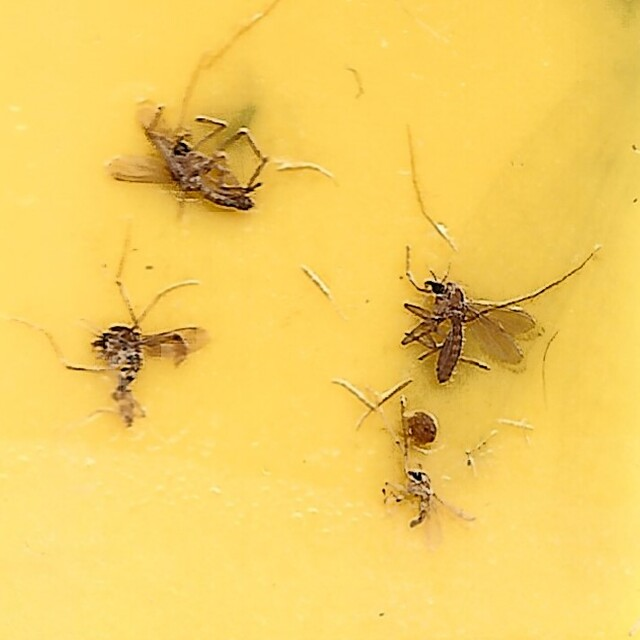Nematocera: (397, 252, 549, 391), (112, 103, 275, 213), (91, 314, 212, 433), (401, 466, 458, 537)
